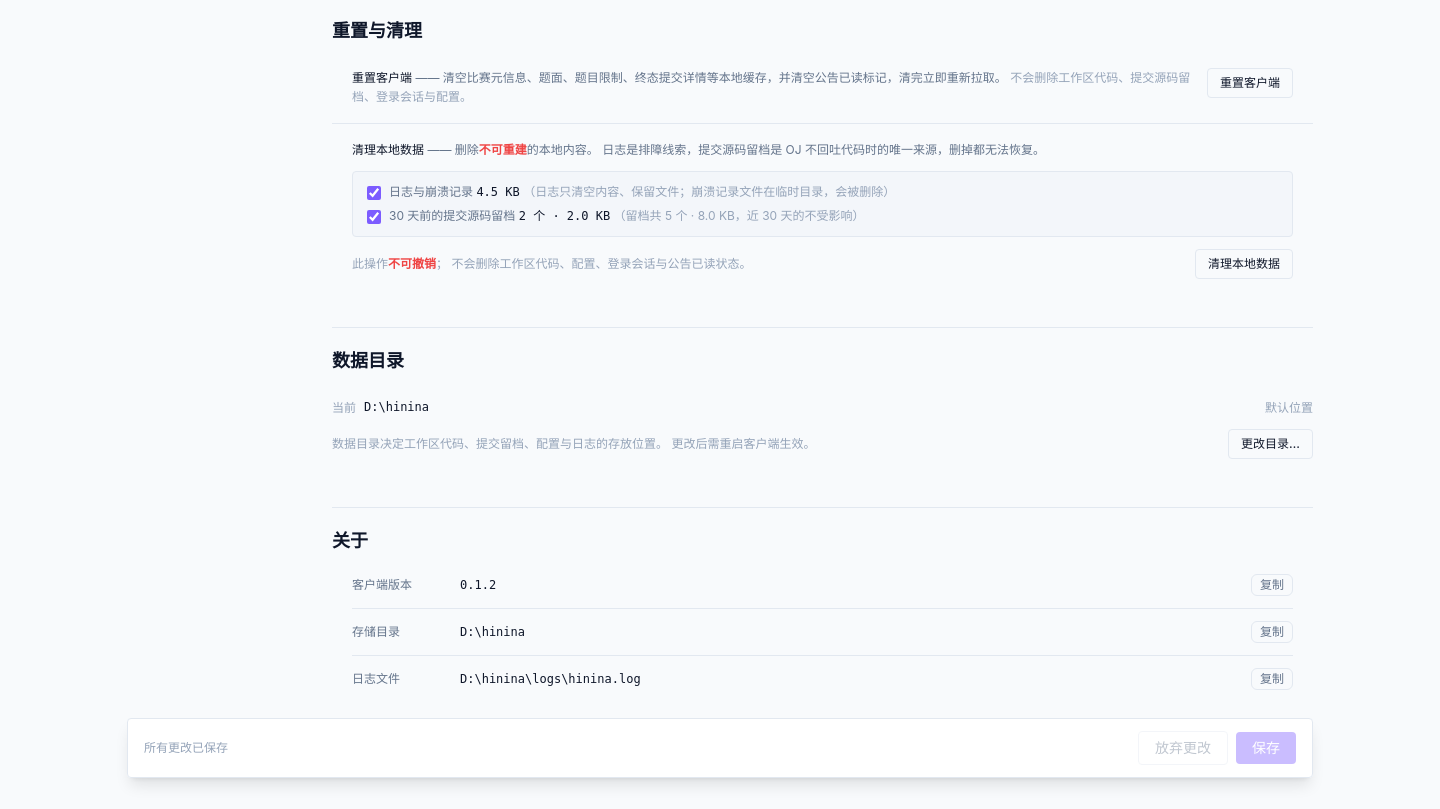
SettingsView 行为表征（结构拆分前） › 数据目录确认使用点击前的 migrate 快照，并在成功后重读
(page scrolled)
Click the button "更改目录…". click: (1271, 444)
box: [1228,429,1313,459]
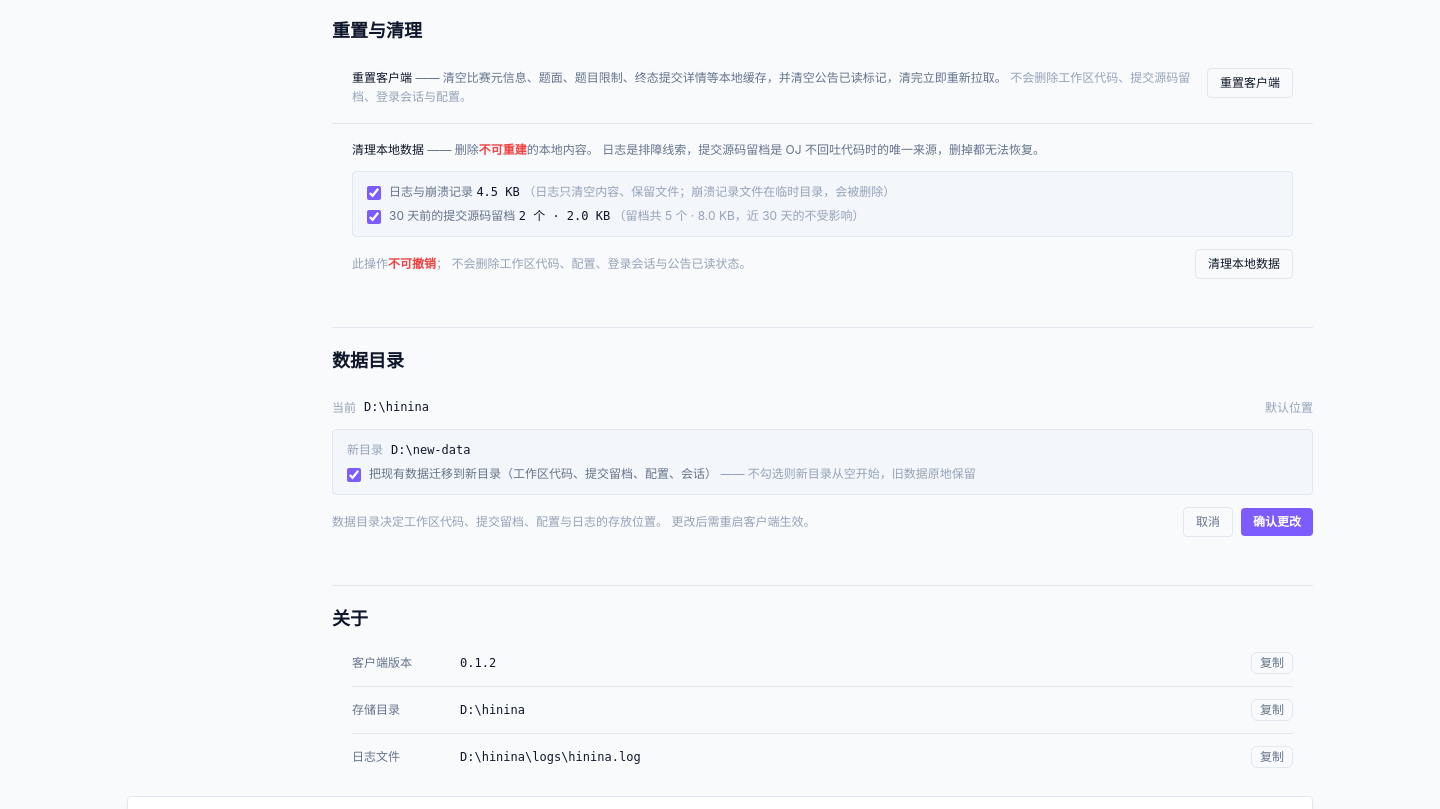
Result: the label "把现有数据迁移到新目录（工作区代码、提交留档、配置、会话） —— 不勾选则新目录从空开始，旧数据原地保留" is shown at [347,466,976,482]
Click the checkbox labelled "把现有数据迁移到新目录（工作区代码、提交留档、配置、会话） —— 不勾选则新目录从空开始，旧数据原地保留". click: (354, 475)
box: [347,468,361,482]
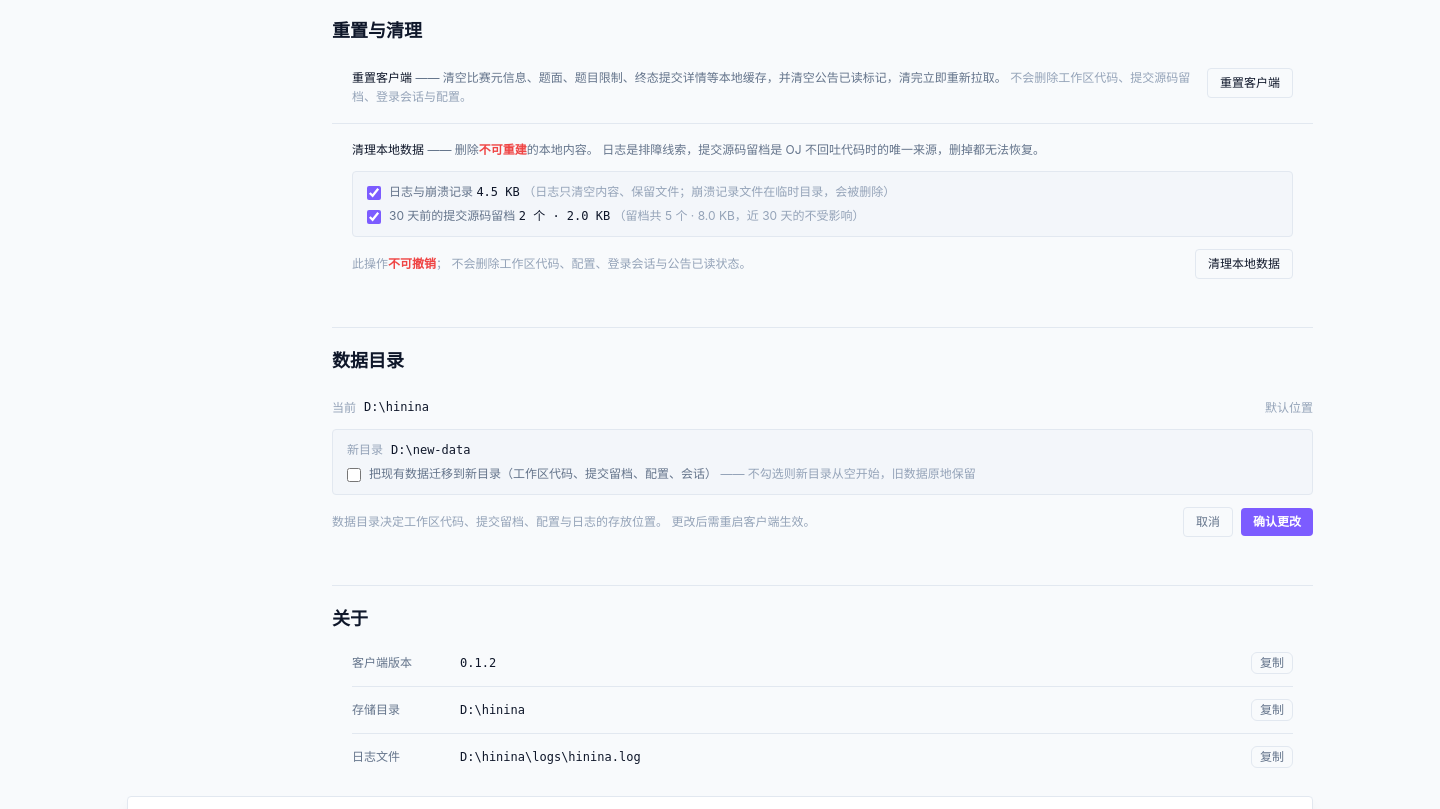
Result: the button "确认更改" is shown
Click the button "确认更改". click: (1277, 522)
box: [1241,508,1313,536]
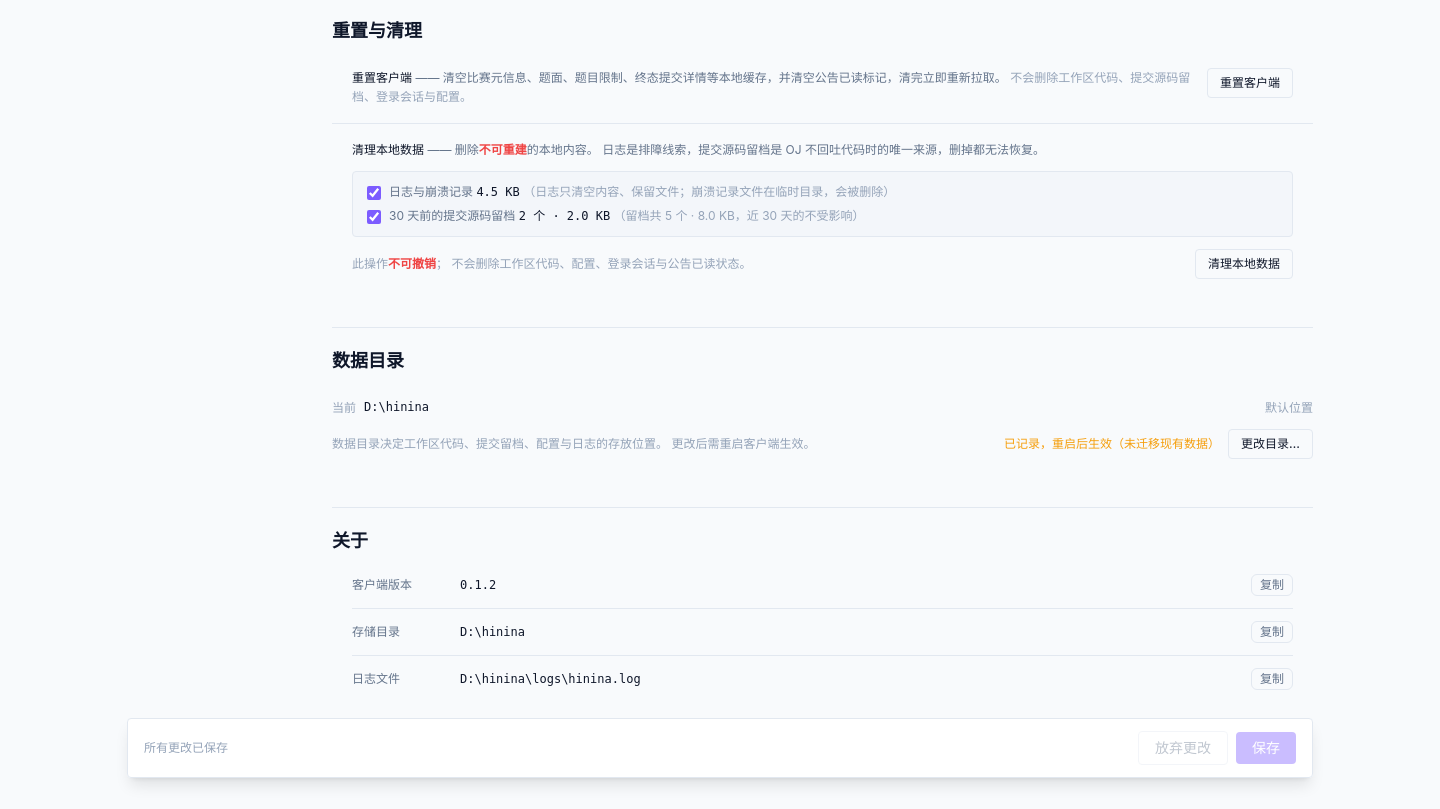
Result: the text "未迁移现有数据" is shown at [1004,436,1220,451]
